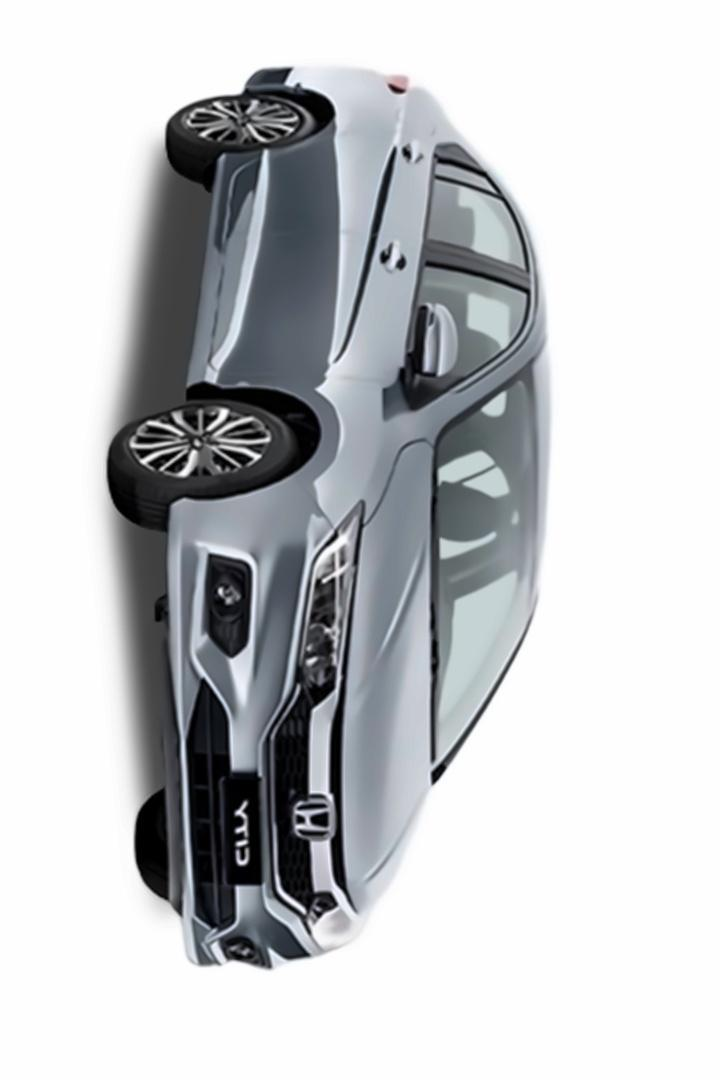Car hood: (333, 434, 444, 927)
Driver-s door - -F-R-: (205, 234, 544, 380)
Fender - -F-R-: (199, 375, 443, 534)
Fender - -R-R-: (214, 89, 446, 160)
Front bumper: (160, 482, 324, 980)
Headlight - -L-: (294, 879, 364, 958)
Headlight - -R-: (292, 495, 374, 713)
Passenger-s door - -R-R-: (217, 129, 532, 240)
Rear bumper: (220, 54, 329, 106)
Rear light - -R-: (365, 62, 427, 106)
Side bumper - -R-: (180, 135, 241, 413)
Side mirror - -R-: (395, 282, 464, 398)
